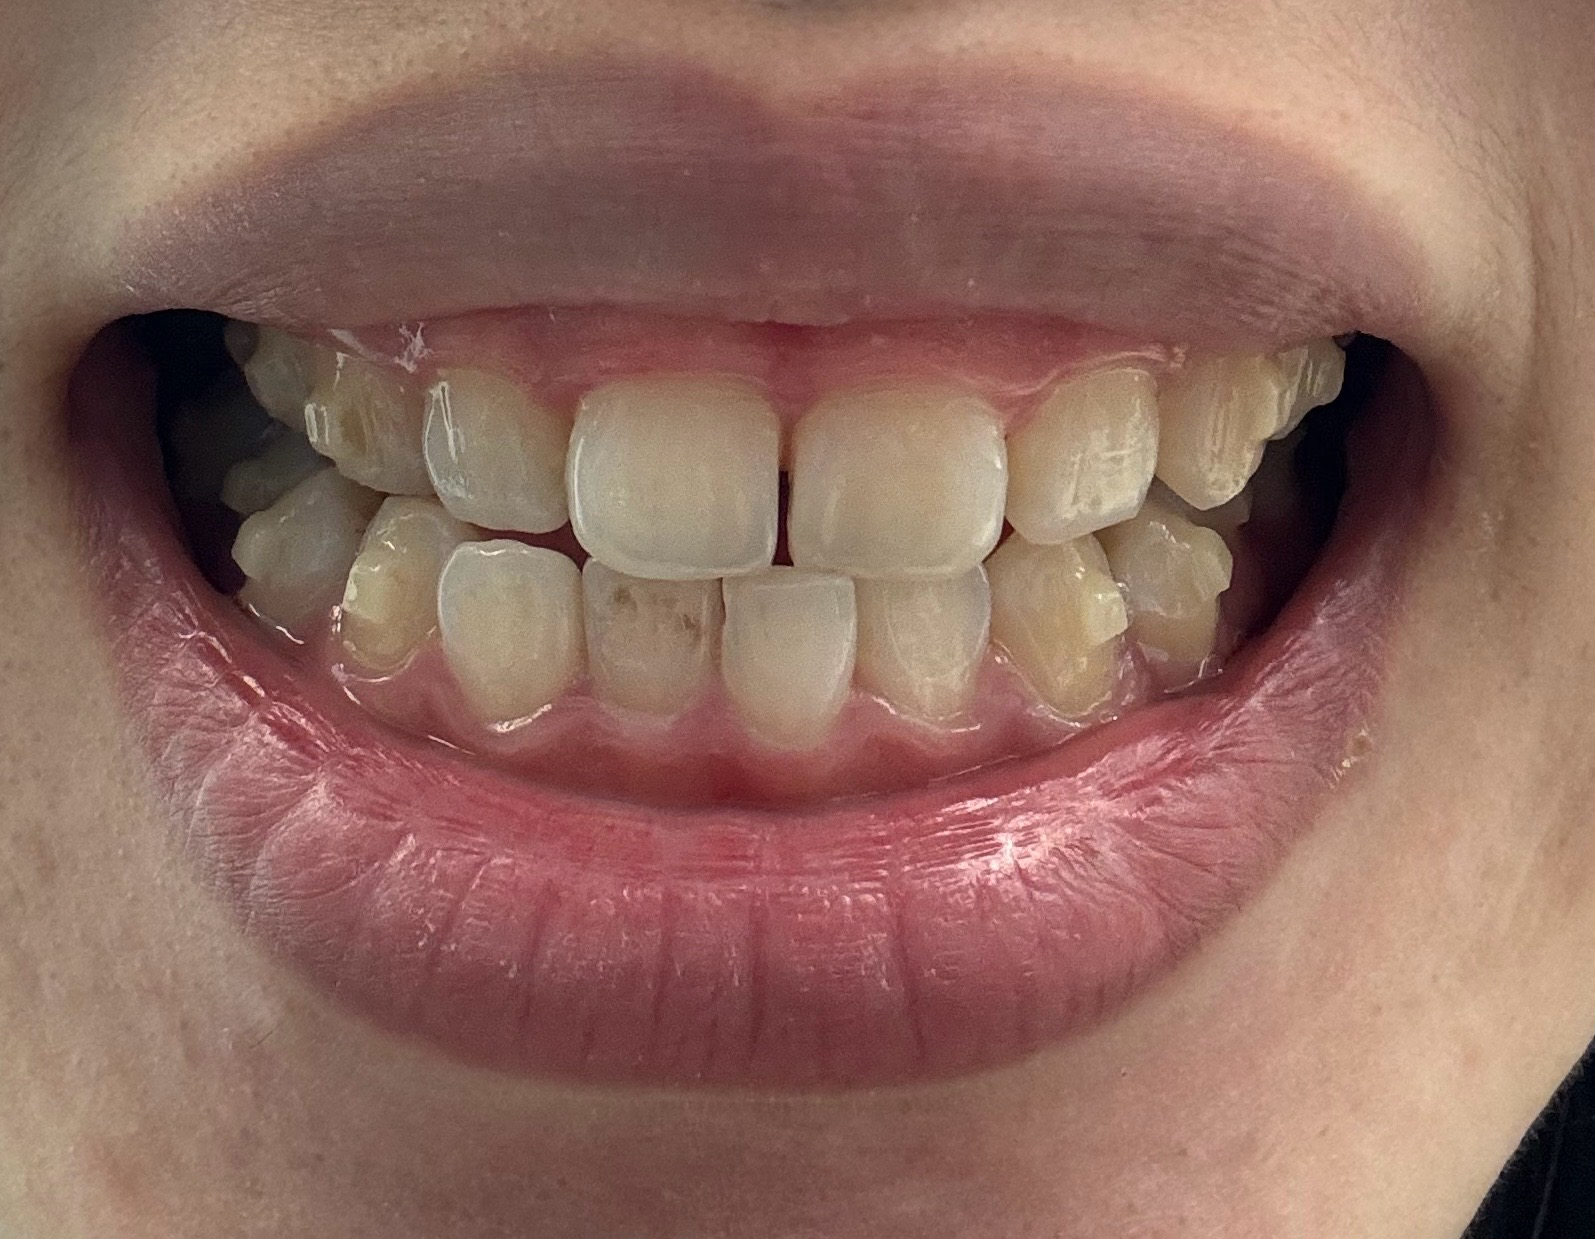teeth: (791, 387, 1007, 575), (576, 377, 779, 567), (1010, 363, 1163, 541), (441, 549, 576, 737), (988, 541, 1130, 713), (337, 498, 467, 669), (722, 580, 856, 746), (225, 473, 360, 628), (429, 370, 561, 528), (589, 567, 708, 724), (866, 570, 989, 717), (1166, 356, 1279, 510), (1126, 509, 1229, 672), (325, 359, 432, 493), (262, 324, 321, 426)
